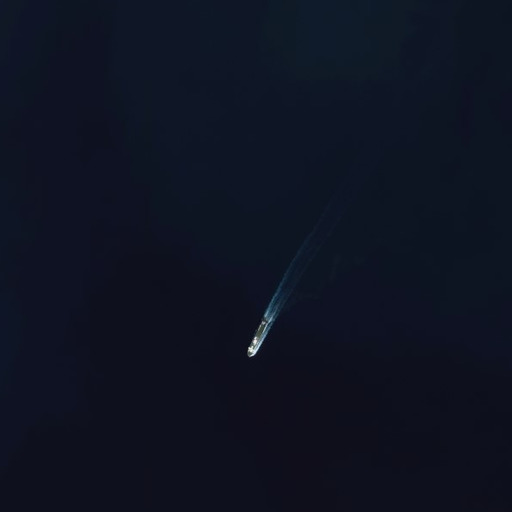ship: (244, 309, 277, 360)
